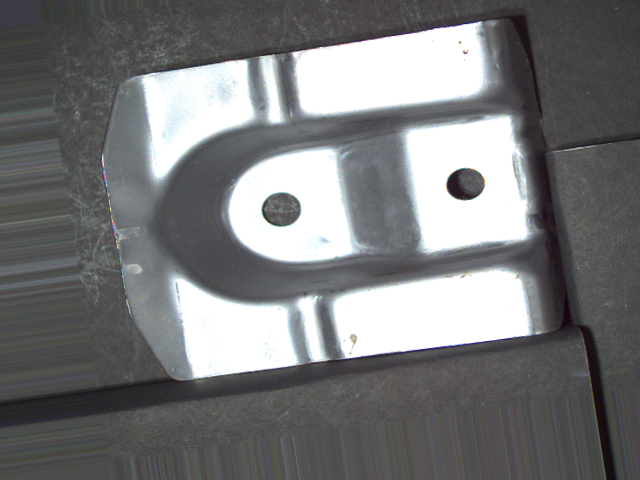defect: (258, 188, 304, 229)
